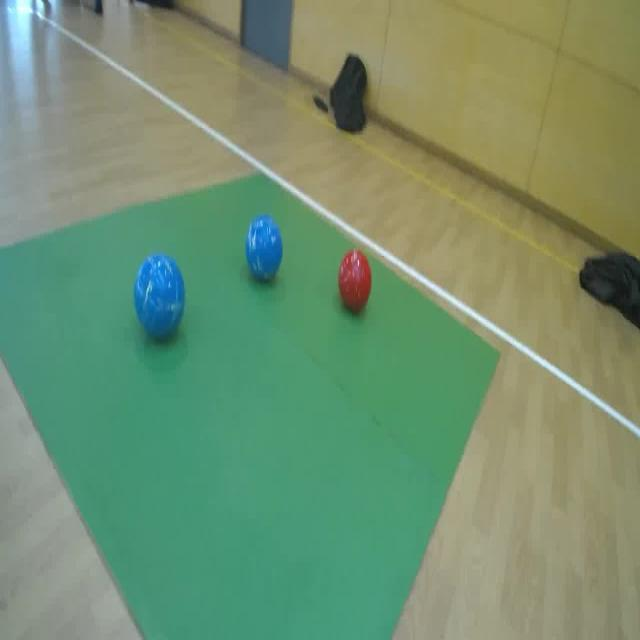blue_ball: (132, 246, 185, 346), (242, 212, 284, 288)
red_ball: (338, 240, 373, 318)
